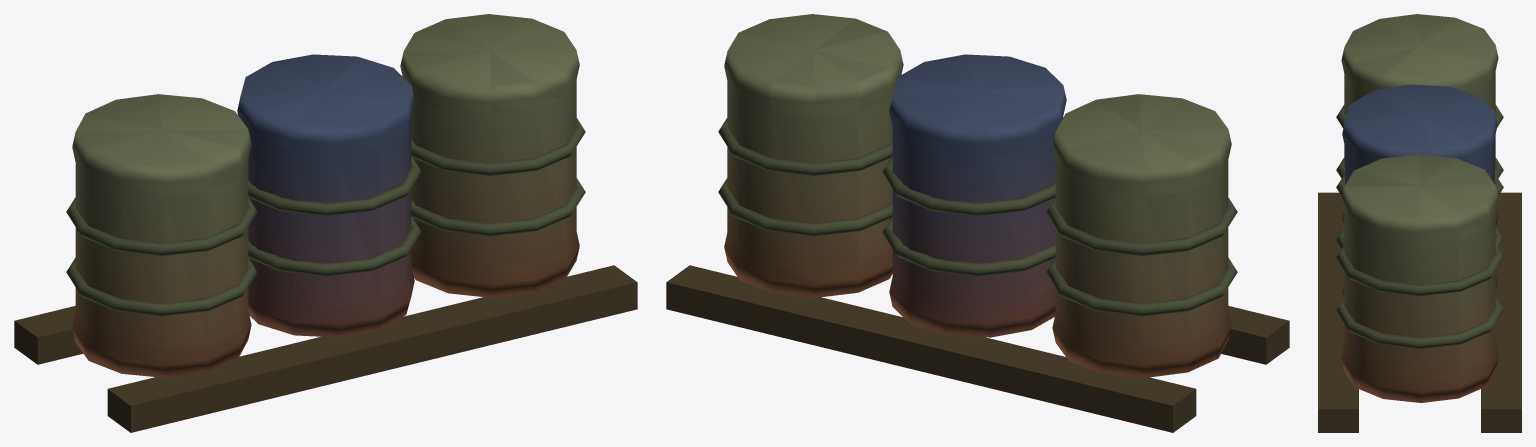
File: barrel-stack.glb
The picture shows the model from 3 angles, left to right: view 1: azimuth 30°, elevation 25°; view 2: azimuth 150°, elevation 25°; view 3: azimuth 270°, elevation 25°; orthographic projection. The views are drawn at different scales.
Parts seen in each view (by area): view 1: barrel_stack; view 2: barrel_stack; view 3: barrel_stack.
Boxes of the visible parts, x1,y1,x2,y2 form: barrel_stack: (14, 14, 637, 432); barrel_stack: (666, 14, 1289, 432); barrel_stack: (1318, 14, 1521, 432).
Size of the model in its own units: 1.76 by 0.7901 by 0.7.
